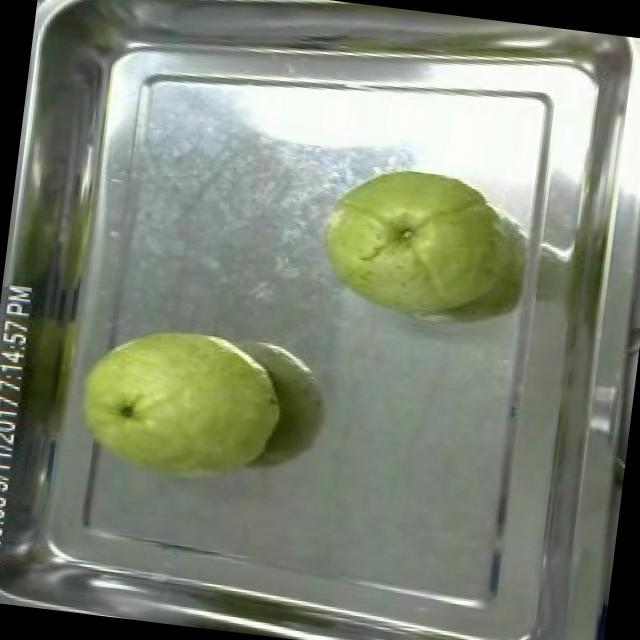Fruit: (59, 308, 298, 498), (304, 147, 526, 333)
